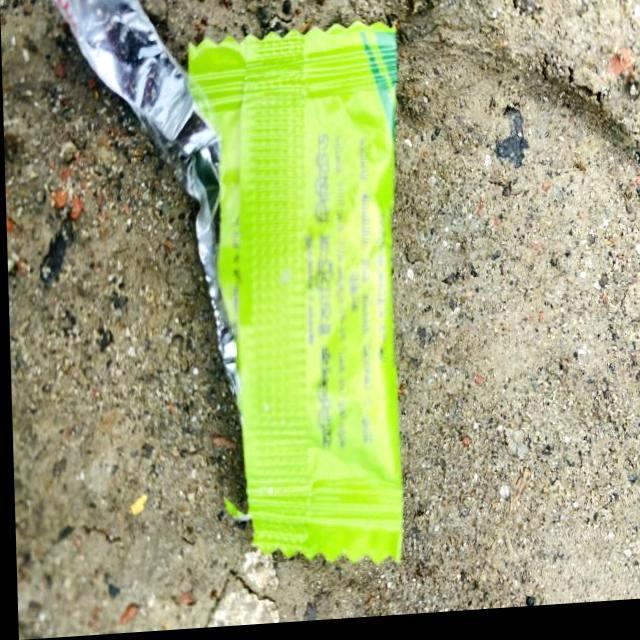packet: (94, 0, 402, 586)
